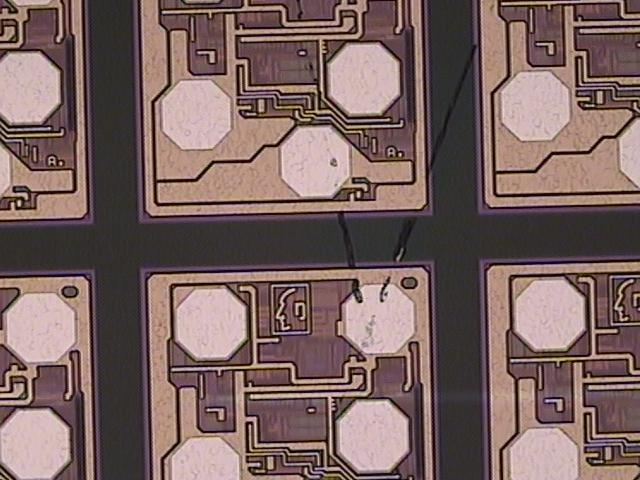SCRATCH: (285, 1, 511, 480)
